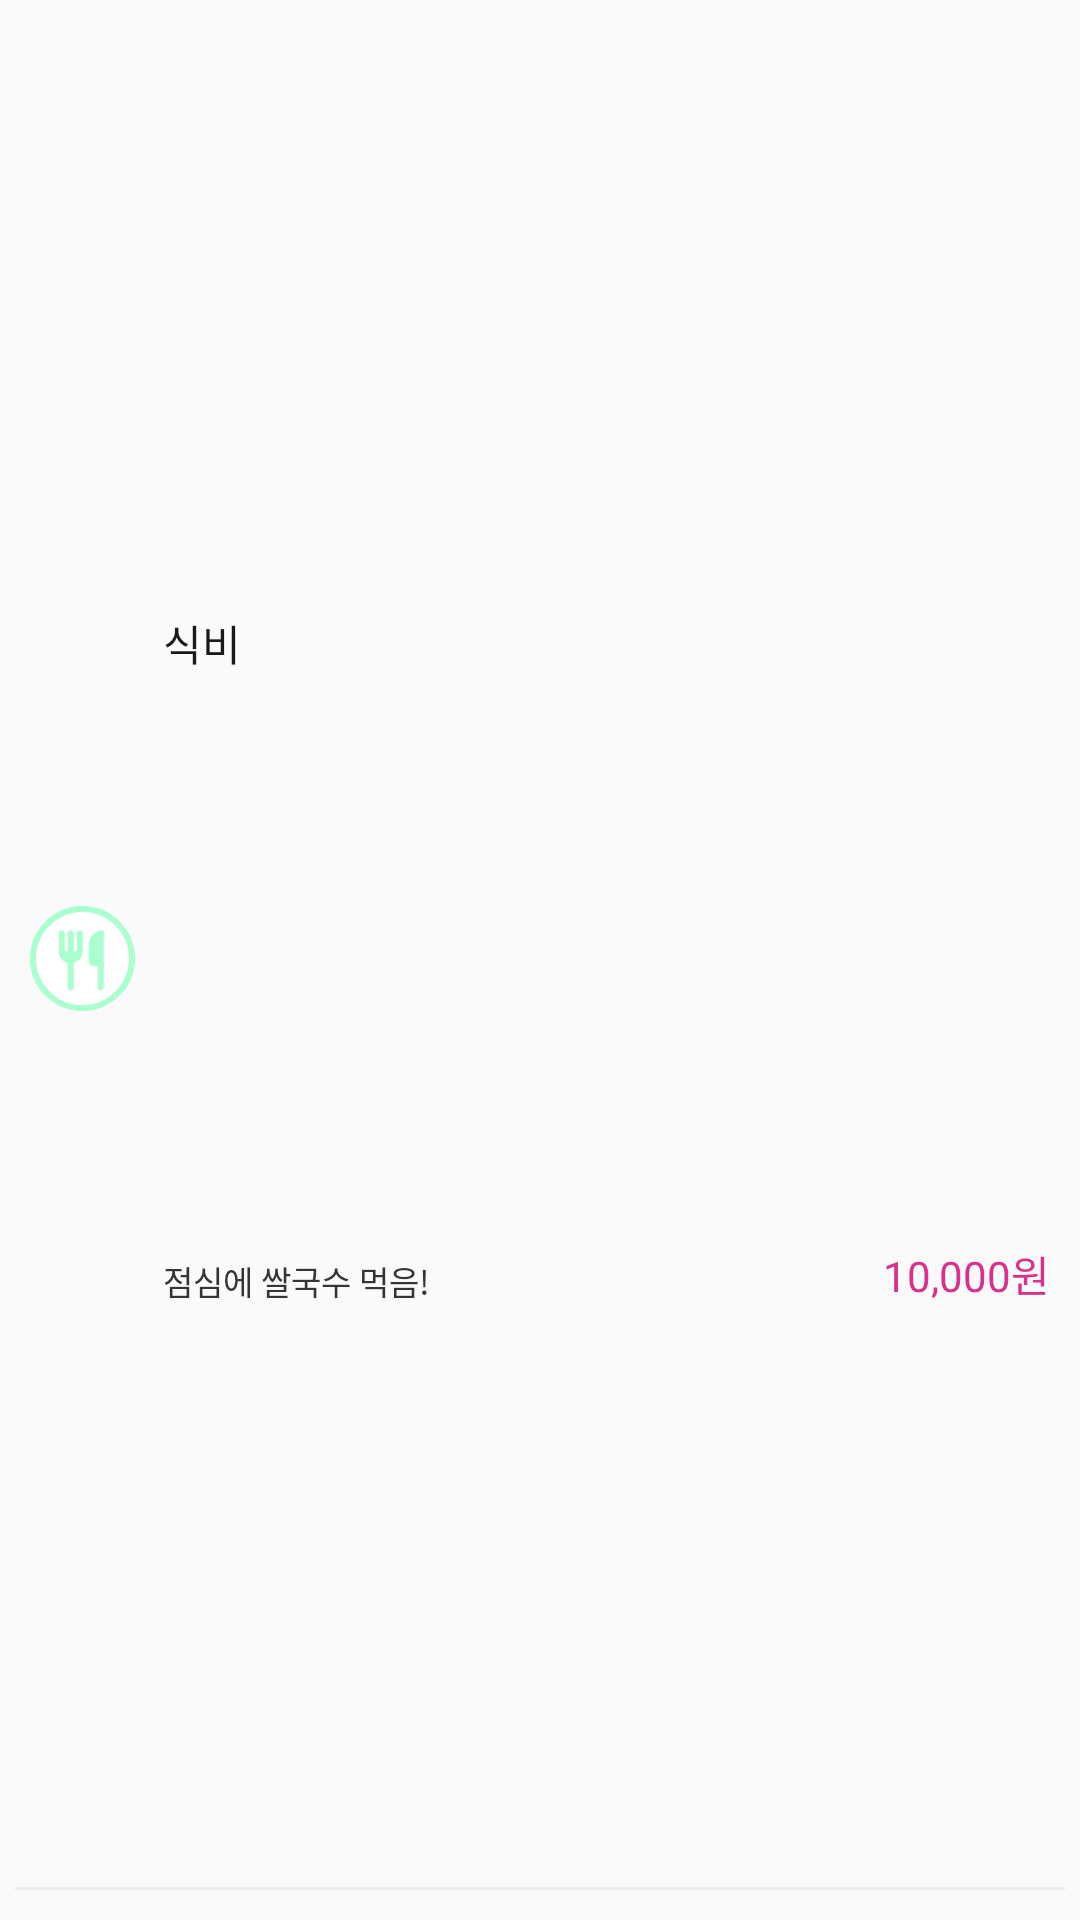

Locate icon controls on the screen. Image size 1080×1920, boxes as {"left": x1, "top": y1, "right": x2, "bottom": y2}.
halfselected food: {"left": 30, "top": 906, "right": 135, "bottom": 1011}
